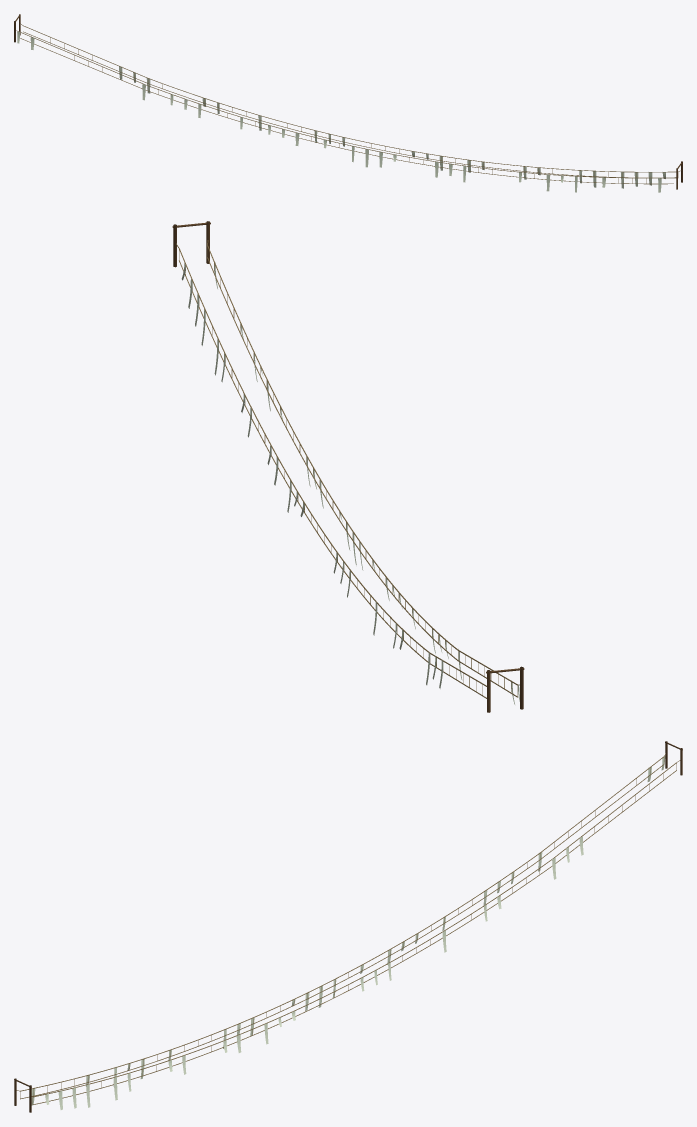
Rendered from SM_Bridge_09_10_Rails.fbx.
3 views of the same model, one above another, from view 1: azimuth 30°, elevation 25°; view 2: azimuth 150°, elevation 25°; view 3: azimuth 270°, elevation 25° (orthographic). The views are drawn at different scales.
Visible parts, largest first — view 1: SM_Bridge_09_10_Rails; view 2: SM_Bridge_09_10_Rails; view 3: SM_Bridge_09_10_Rails.
Part boxes in pixels (box(x1,y1,x2,y2)): SM_Bridge_09_10_Rails: box(14, 14, 682, 192); SM_Bridge_09_10_Rails: box(172, 221, 524, 712); SM_Bridge_09_10_Rails: box(14, 741, 682, 1112).
Bounding box in the file's own units: 80.33 × 18.71 × 85.55.
